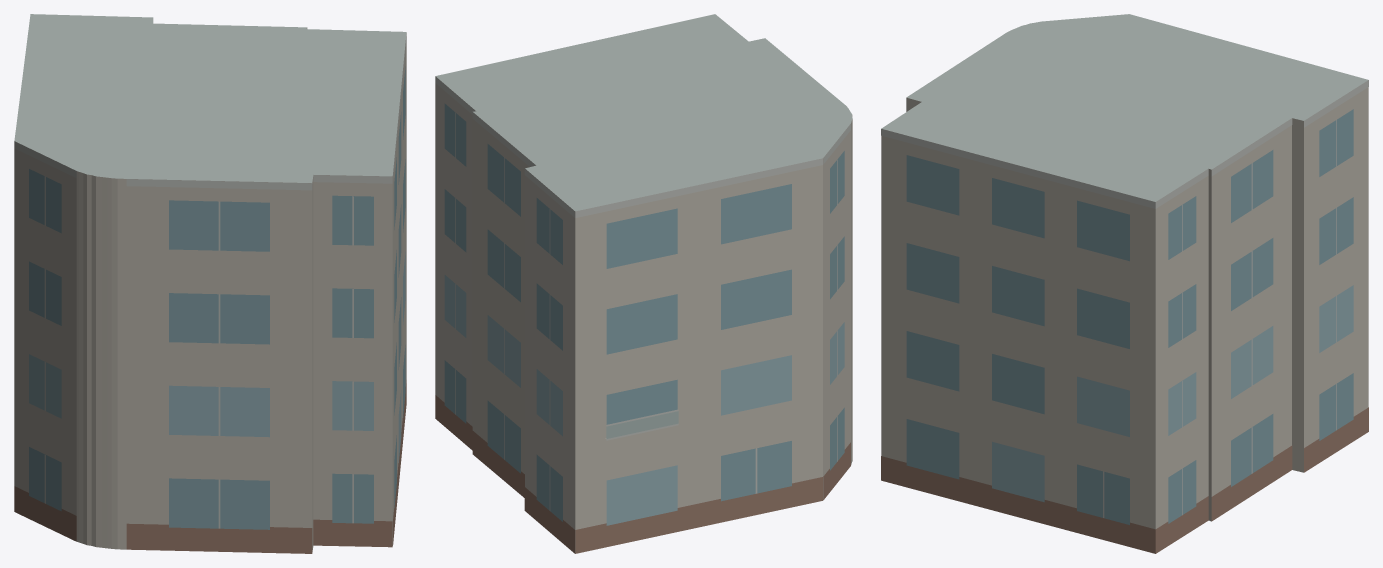
Rendered from survey-upis-32984109.glb.
3 views of the same model, side by side, from view 1: azimuth 30°, elevation 25°; view 2: azimuth 150°, elevation 25°; view 3: azimuth 270°, elevation 25° (orthographic). The views are drawn at different scales.
Parts seen in each view (by area): view 1: survey-upis-32984109.tmp; view 2: survey-upis-32984109.tmp; view 3: survey-upis-32984109.tmp.
Part boxes in pixels (left/top/right/bottom): survey-upis-32984109.tmp: left=14, top=14, right=406, bottom=553; survey-upis-32984109.tmp: left=435, top=14, right=852, bottom=553; survey-upis-32984109.tmp: left=881, top=14, right=1368, bottom=553.
Bounding box in the file's own units: 14.22 × 12.4 × 15.59.
